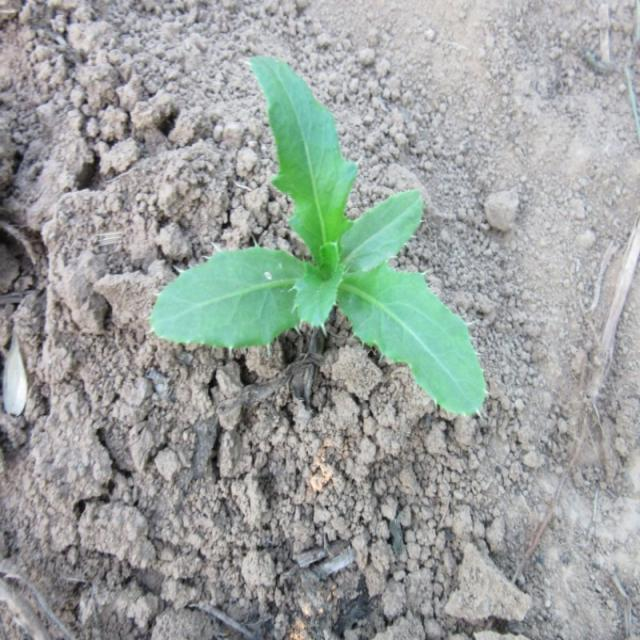cs: (149, 49, 493, 424)
